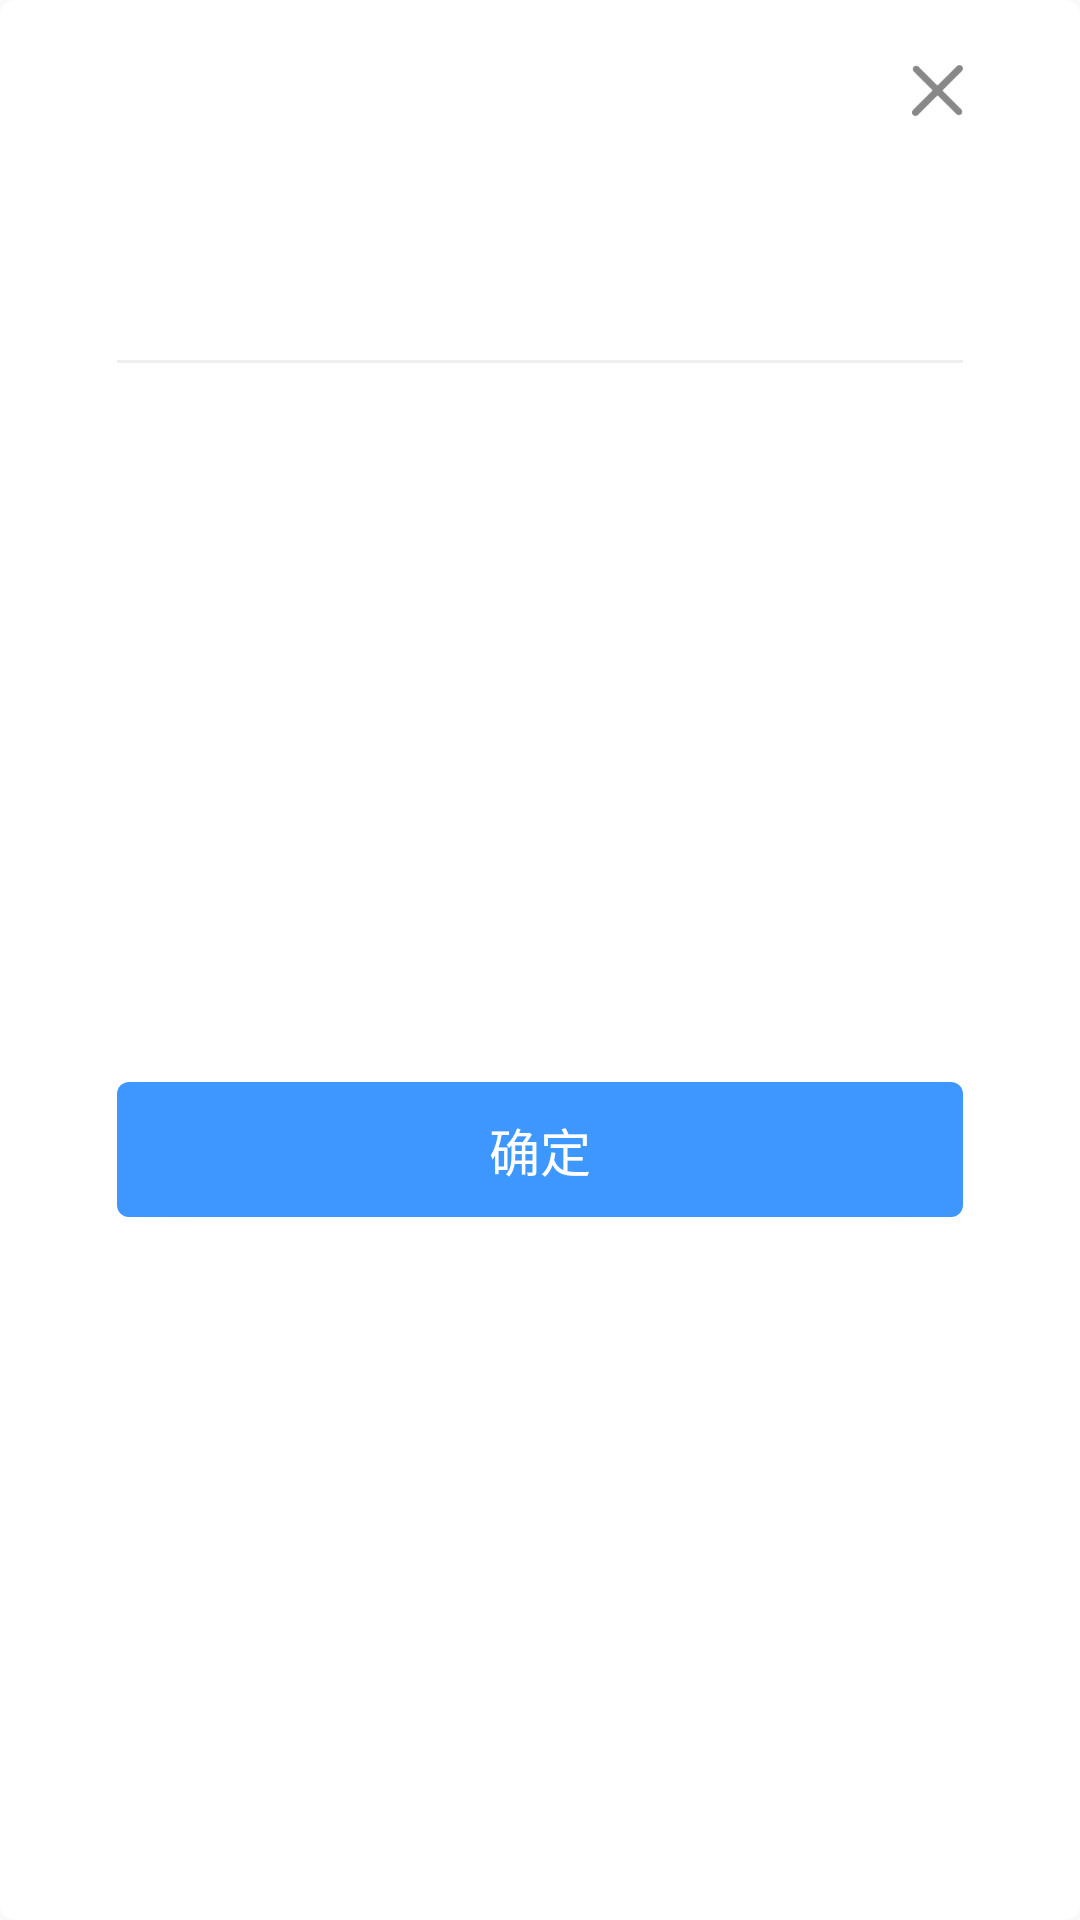

Screen size 1080×1920. Icon name, then its center in pixels as point (x, y):
cancel: point (937, 90)
